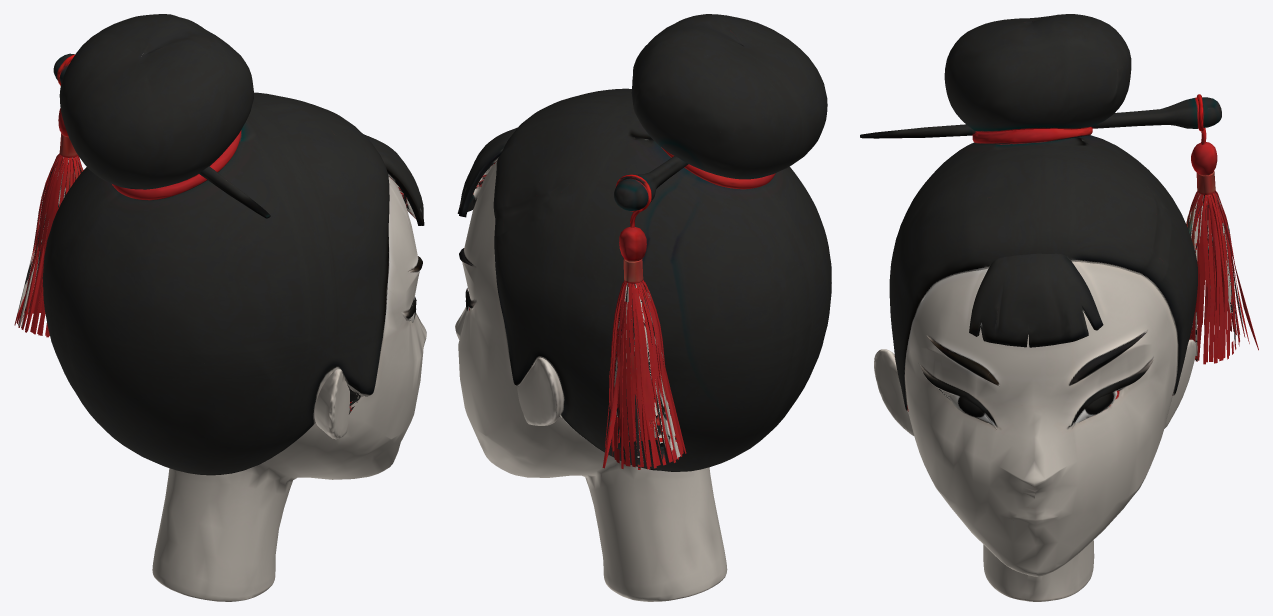
The picture shows the model from 3 angles, left to right: view 1: azimuth 30°, elevation 25°; view 2: azimuth 150°, elevation 25°; view 3: azimuth 270°, elevation 25°; orthographic projection. The views are drawn at different scales.
Visible parts, largest first — view 1: tripo_node_e291b009; view 2: tripo_node_e291b009; view 3: tripo_node_e291b009.
Boxes of the visible parts, <box> form: tripo_node_e291b009: <box>14,14,426,601</box>; tripo_node_e291b009: <box>455,14,831,601</box>; tripo_node_e291b009: <box>860,14,1258,601</box>.
Size of the model in its own units: 0.6655 by 0.9995 by 0.6753.
1 material, 1 textured.
